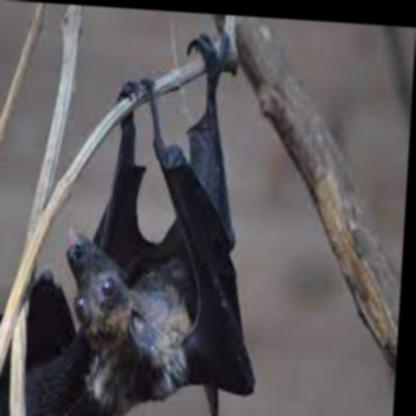Bat: (0, 29, 276, 415)
